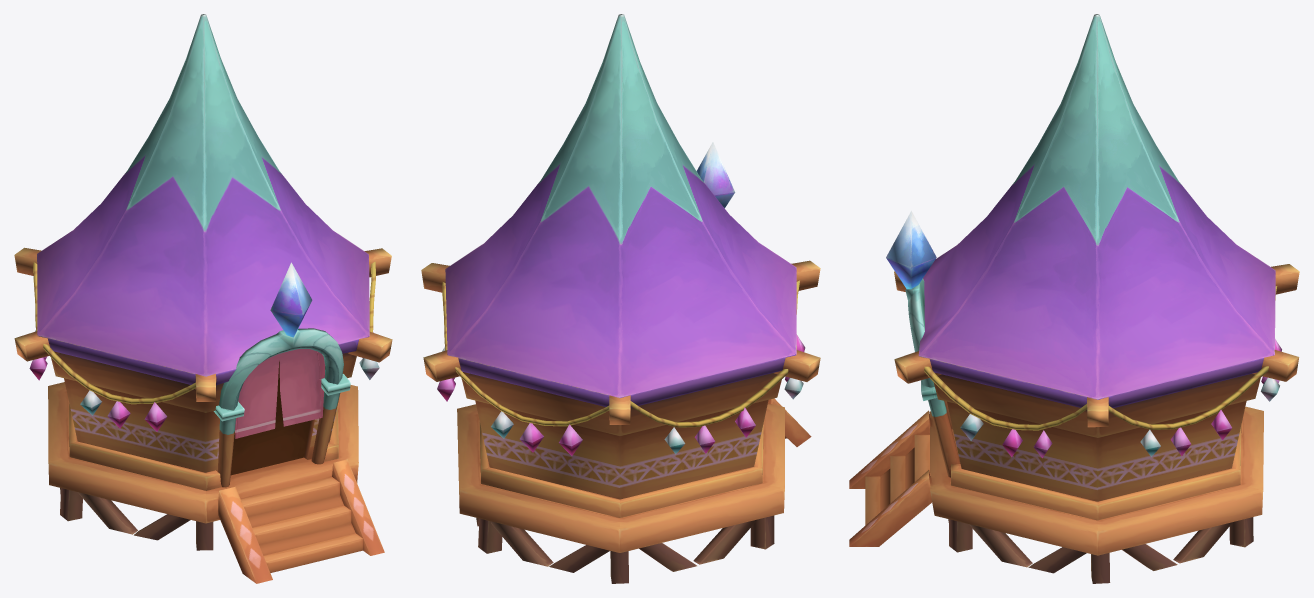
File: SM_Jeweler_lv2.fbx
3 renders of one model, left to right at view 1: azimuth 30°, elevation 25°; view 2: azimuth 150°, elevation 25°; view 3: azimuth 270°, elevation 25°, orthographic. The views are drawn at different scales.
Visible parts, largest first — view 1: SM_Jeweler_Lv2; view 2: SM_Jeweler_Lv2; view 3: SM_Jeweler_Lv2.
Part boxes in pixels (x1=…): SM_Jeweler_Lv2: x1=14, y1=14, x2=392, y2=583; SM_Jeweler_Lv2: x1=421, y1=14, x2=820, y2=583; SM_Jeweler_Lv2: x1=849, y1=14, x2=1299, y2=583.
Size of the model in its own units: 690 by 841 by 688.
